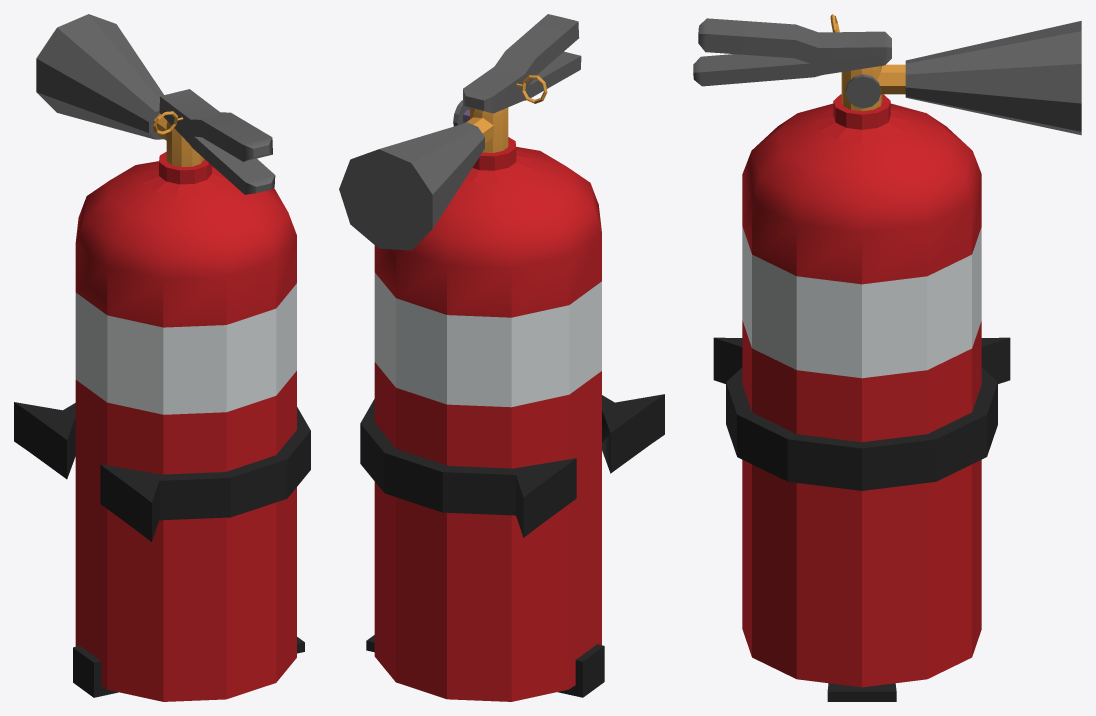
The model's file is EXTITAS.fbx.
3 views of the same model, side by side, from view 1: azimuth 30°, elevation 25°; view 2: azimuth 150°, elevation 25°; view 3: azimuth 270°, elevation 25° (orthographic). The views are drawn at different scales.
Visible parts, largest first — view 1: Bottom_bolt_Mesh.002; view 2: Bottom_bolt_Mesh.002; view 3: Bottom_bolt_Mesh.002.
Boxes of the visible parts, x1,y1,x2,y2 form: Bottom_bolt_Mesh.002: (14, 14, 310, 701); Bottom_bolt_Mesh.002: (339, 14, 664, 701); Bottom_bolt_Mesh.002: (693, 14, 1081, 701).
Size of the model in its own units: 217 by 567 by 321.
